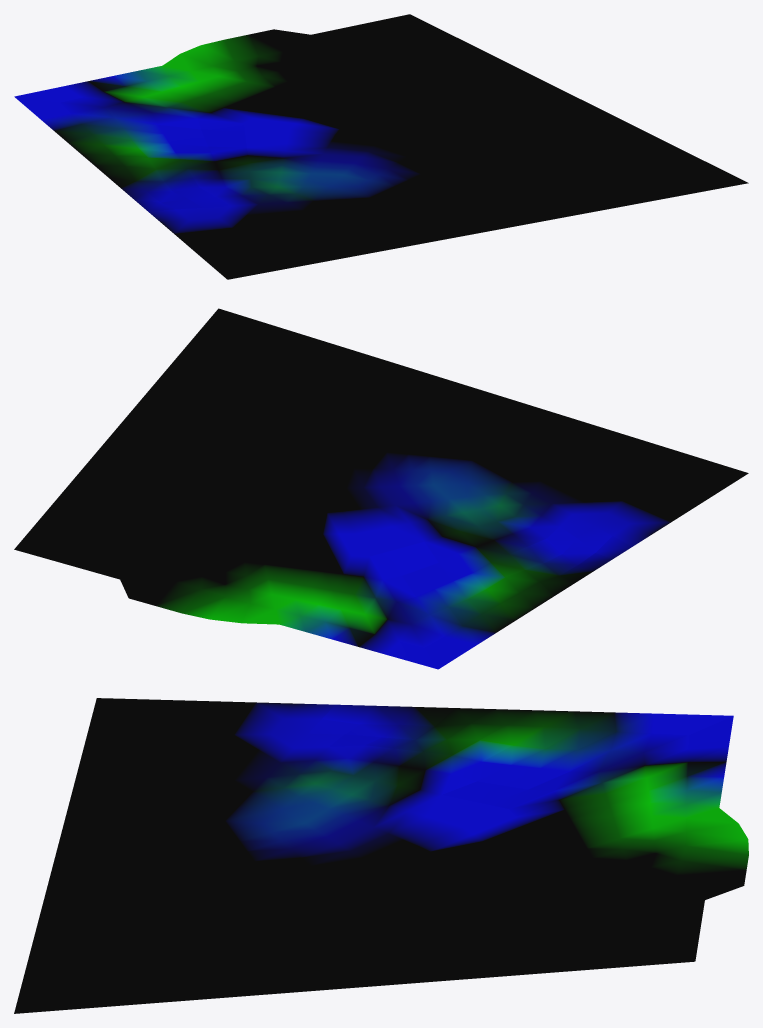
The picture shows the model from 3 angles, top to bottom: view 1: azimuth 30°, elevation 25°; view 2: azimuth 150°, elevation 25°; view 3: azimuth 270°, elevation 25°; orthographic projection. The views are drawn at different scales.
Visible parts, largest first — view 1: Sprite; view 2: Sprite; view 3: Sprite.
Part boxes in pixels (bbox=[...]): Sprite: bbox=[14, 14, 748, 279]; Sprite: bbox=[14, 308, 748, 669]; Sprite: bbox=[14, 698, 748, 1013].
Size of the model in its own units: 1054 by 8.76 by 1036.
